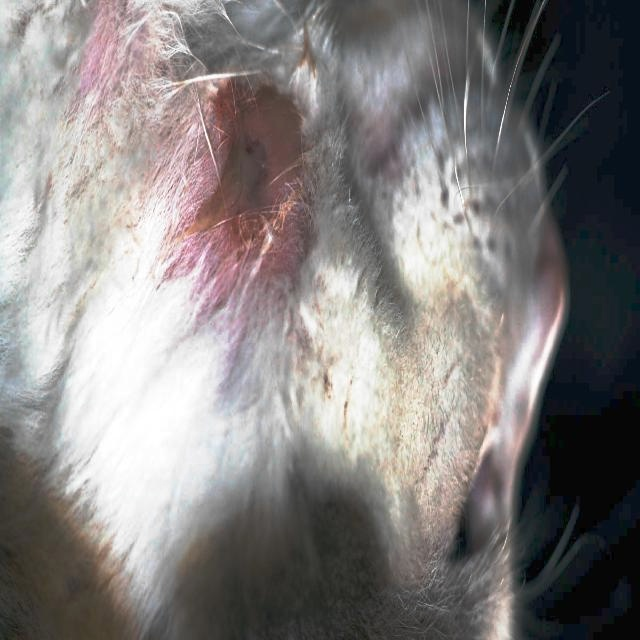lump_and_bump: (217, 78, 310, 273)
